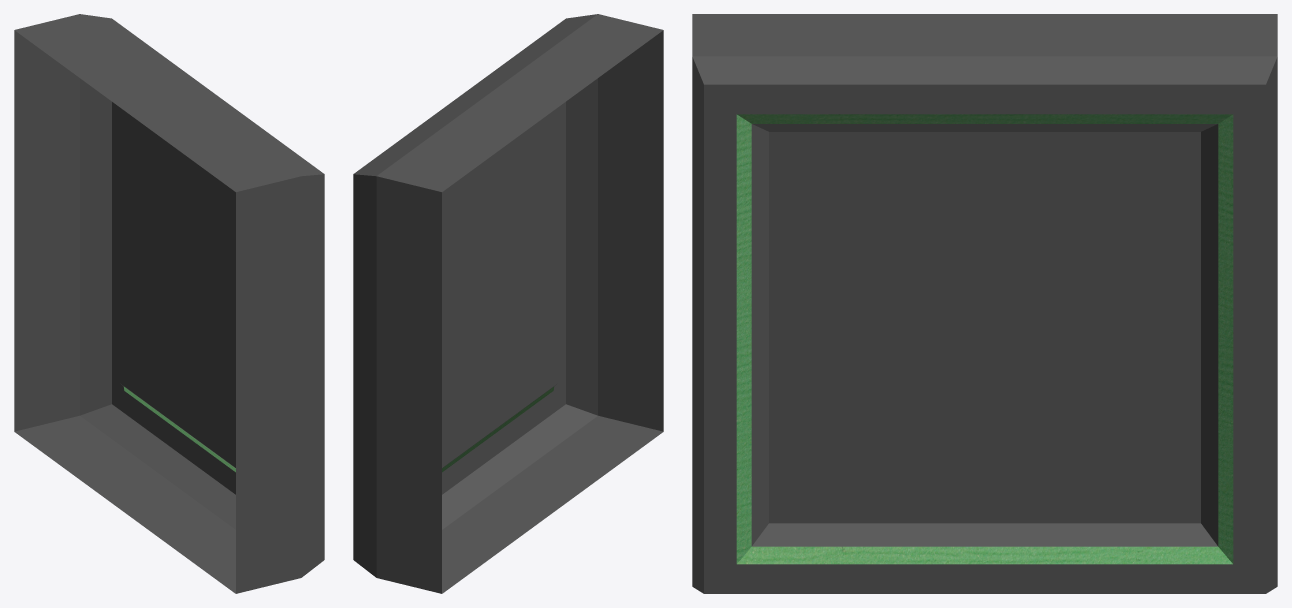
Rendered from Tapa.obj.
The picture shows the model from 3 angles, left to right: view 1: azimuth 30°, elevation 25°; view 2: azimuth 150°, elevation 25°; view 3: azimuth 270°, elevation 25°; orthographic projection. The views are drawn at different scales.
Visible parts, largest first — view 1: Tapa; view 2: Tapa; view 3: Tapa.
Boxes of the visible parts, x1,y1,x2,y2 form: Tapa: (14,14,324,593); Tapa: (353,14,663,593); Tapa: (692,14,1277,593).
Size of the model in its own units: 0.2432 by 1 by 1.
Materials: 2 (1 with a texture image).
